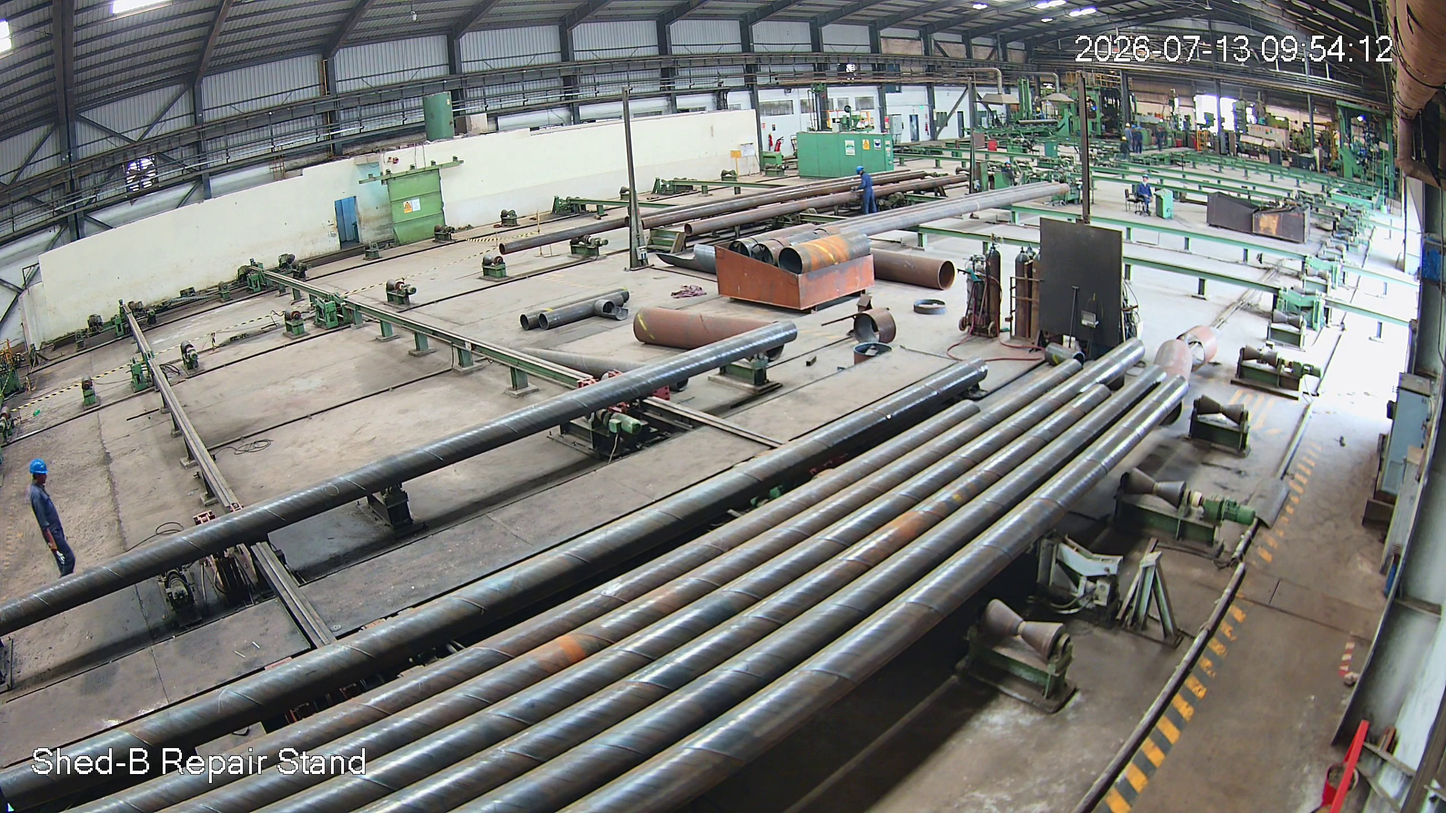Helmet: (855, 164, 866, 177)
Person: (855, 165, 878, 215)
